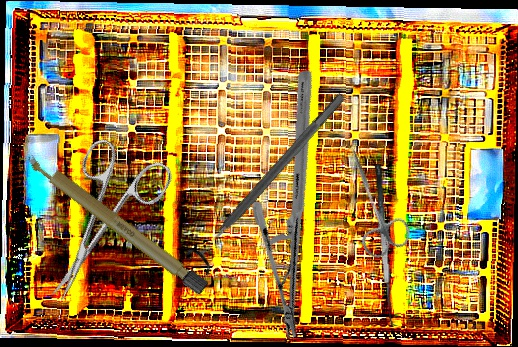Fixation Ring: (180, 83, 357, 278)
Iris Scissors: (16, 128, 177, 319), (327, 139, 416, 262)
Needle Holder: (182, 67, 414, 342)
Scalpel Handle: (22, 148, 210, 297)
Spatula Surgical: (374, 163, 405, 327)
